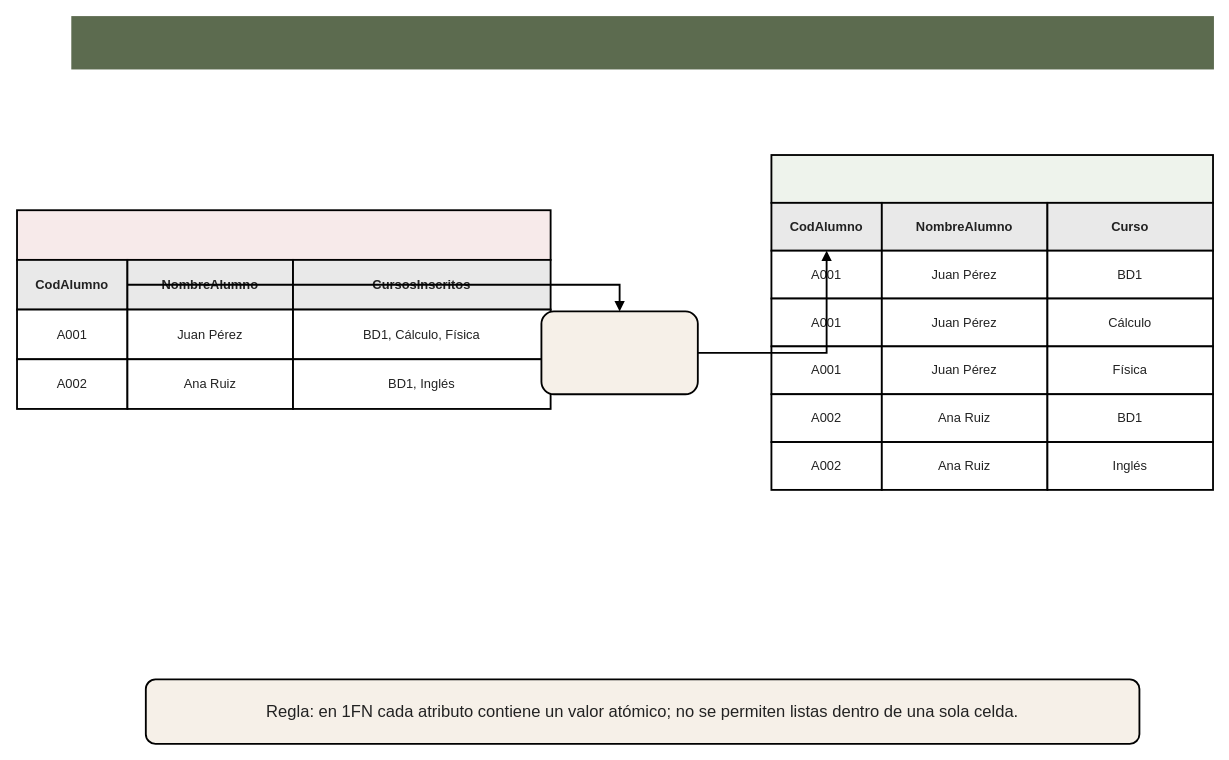
Some shapes in this 1229 by 760 pixel diagram are drawn without their labels. The shapes that lost their labels are listed below. From the top down, each one's box as (x1, y1, x2, y2) in pixels, then its label:
(71, 16, 1213, 69): Primera Forma Normal (1FN)
(770, 154, 1213, 203): MATRÍCULA_1FN — DESPUÉS
(16, 209, 551, 260): MATRÍCULA — ANTES
(540, 310, 698, 395): Aplicación de 1FN
